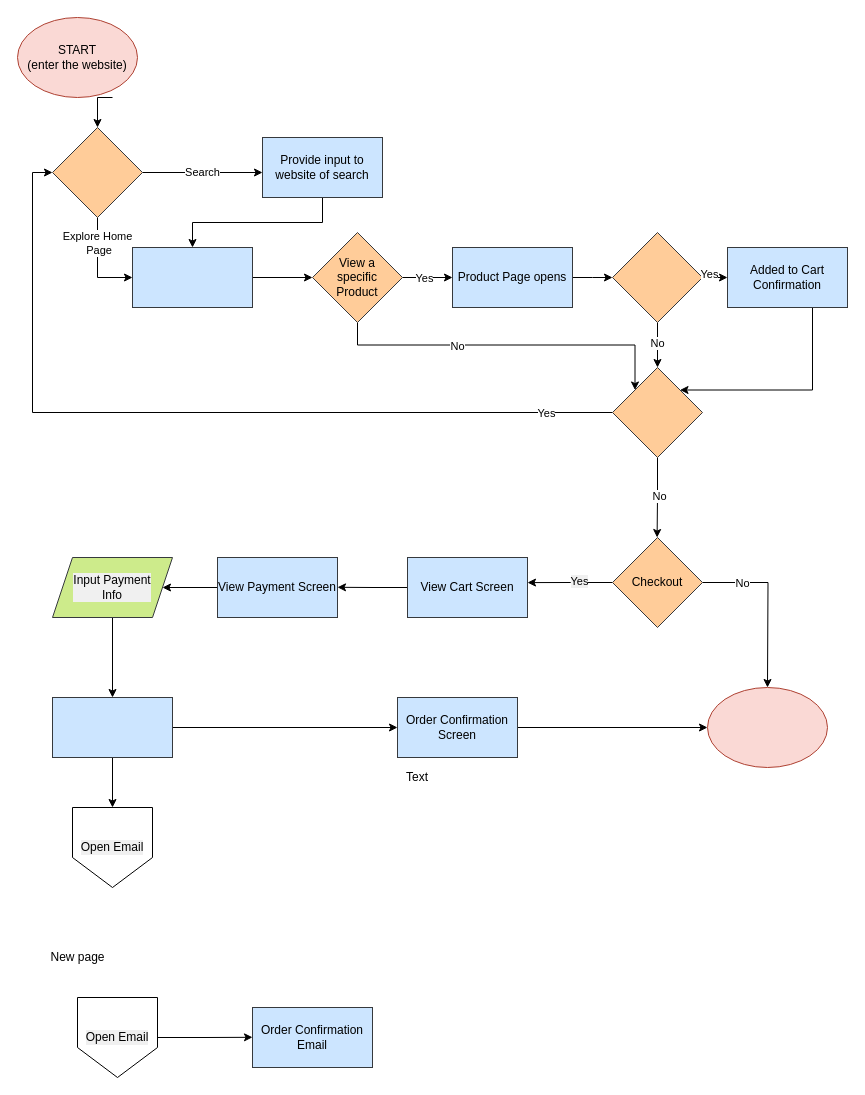
The diagram is 865 pixels wide and 1095 high, and some of its shapes have lost their labels. The shapes that lost their labels are listed below. From the top down, each one's box as (x1, y1, x2, y2) in pixels, then its label:
(52, 126, 142, 218): Search or explore home page
(132, 246, 252, 308): Begin looking over products
(612, 232, 702, 322): Add to Cart
(612, 366, 702, 458): Continue Shopping
(52, 696, 172, 758): Make Payment
(706, 686, 828, 768): END (Leave Website)
